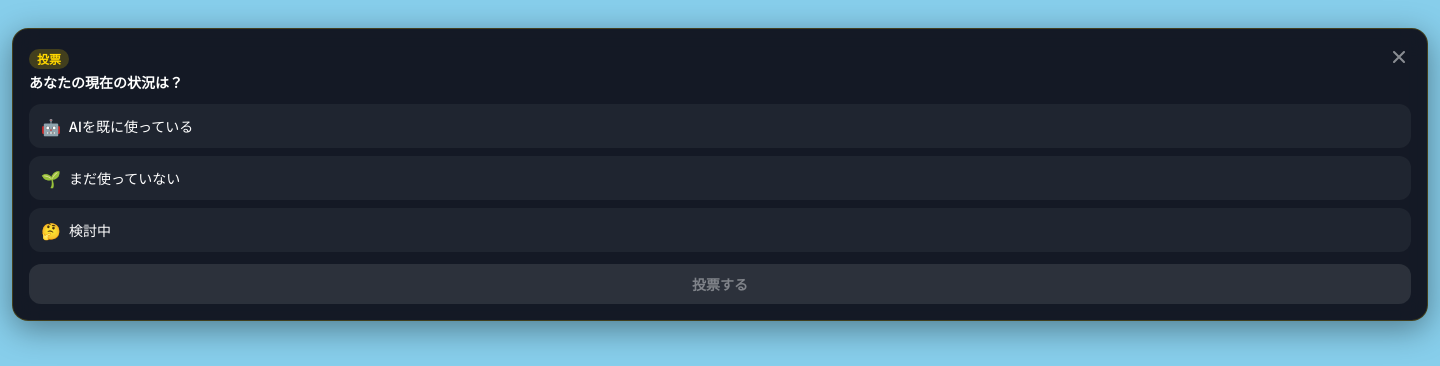
Scenario: PollOverlay - voting › shows results after voting when showResultsAfterVote is true
The image size is (1440, 366).
Click the text "AIを既に使っている".
click(131, 126)  # box top-left (69, 116), bottom-right (193, 136)
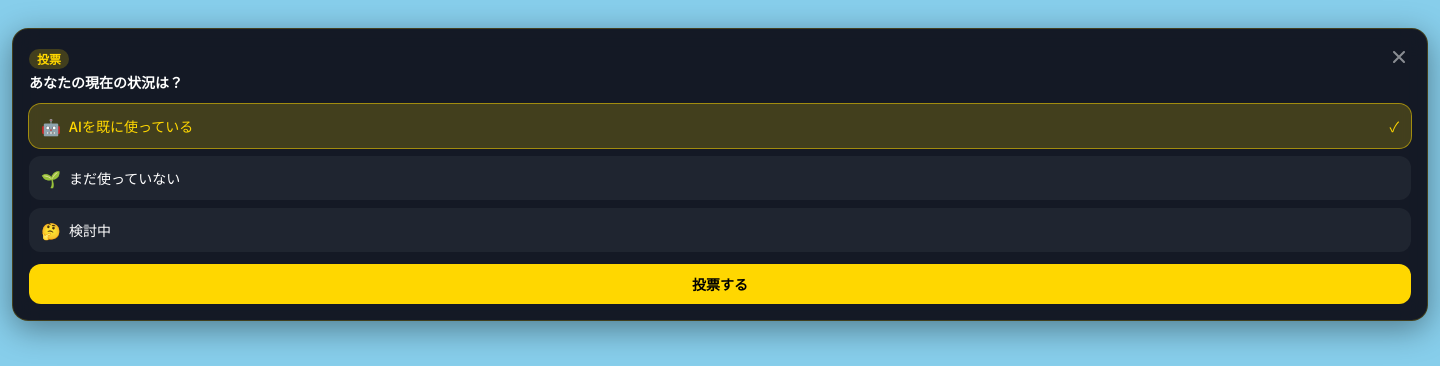
Click the button "投票する".
click(720, 284)  # box top-left (29, 264), bottom-right (1411, 304)
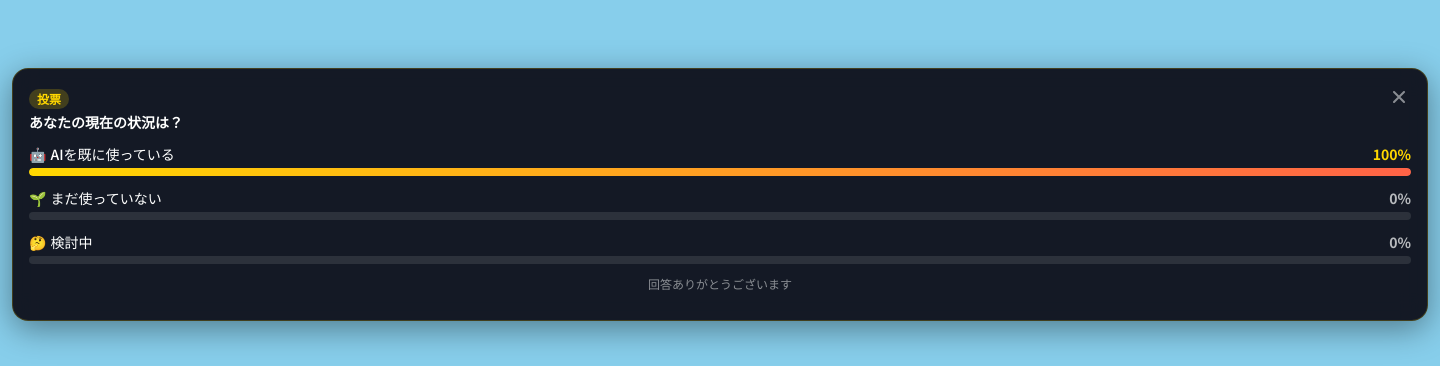
Now the text "回答ありがとうございます" is shown, box top-left (648, 275), bottom-right (792, 292)
